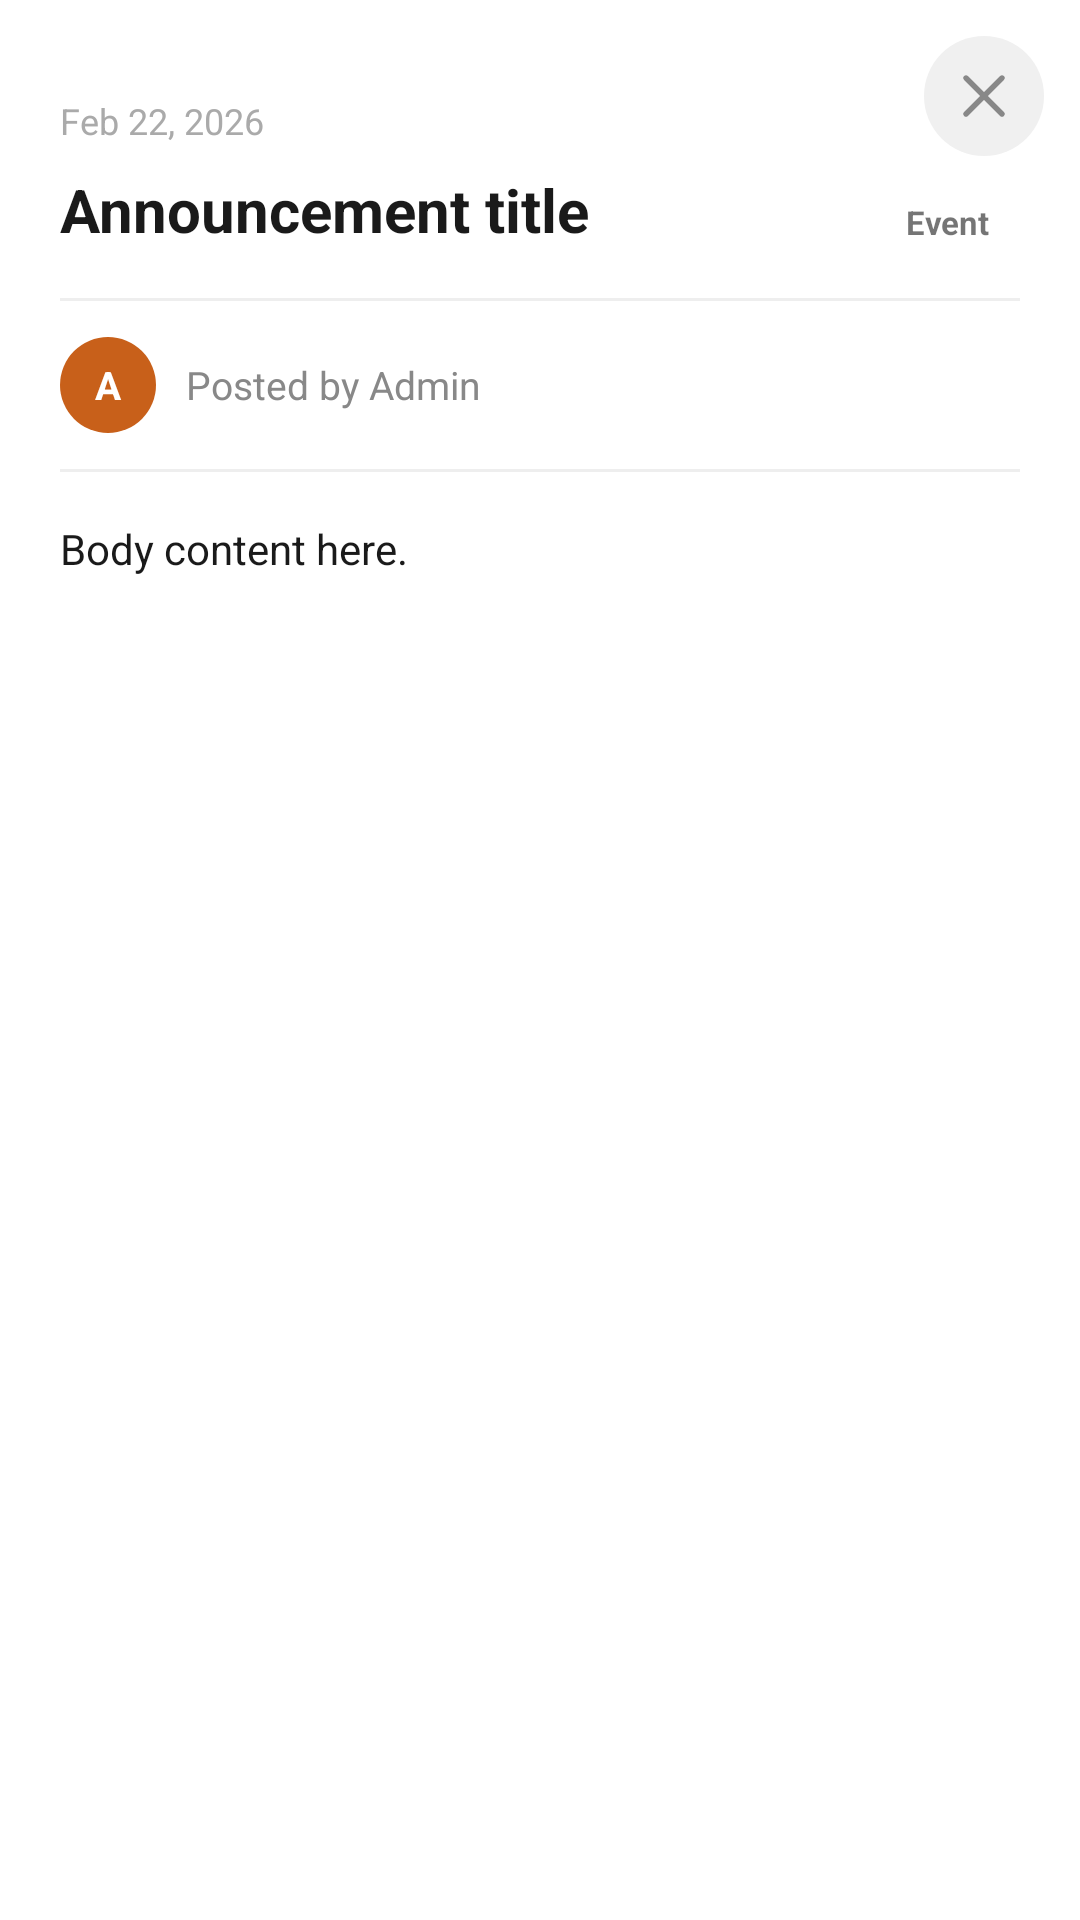

Where to tap for icons on this 1080w x 1920h app screen, as (x,y):
Close: (984,96)
